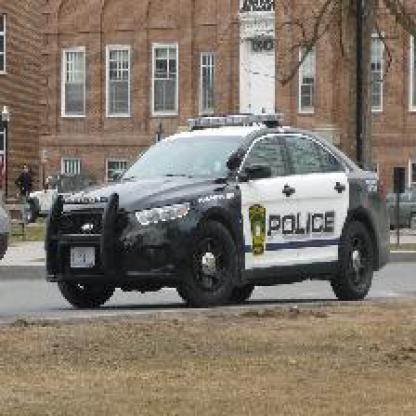emergency: (32, 110, 408, 360)
